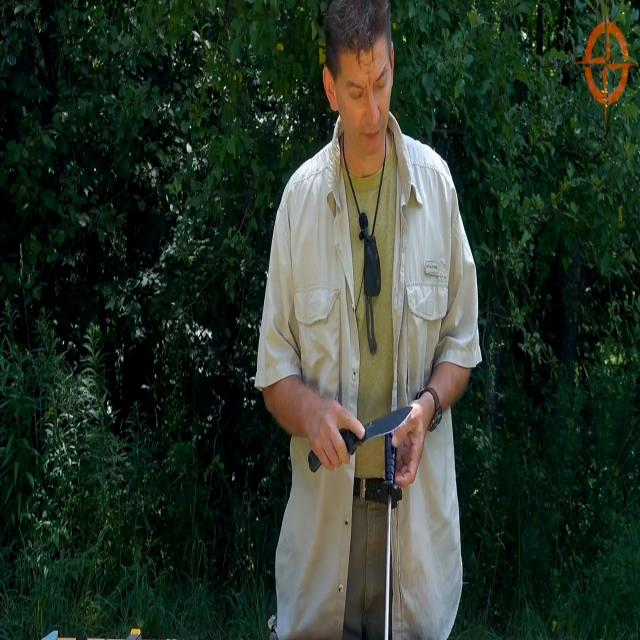knife: (306, 402, 417, 474)
